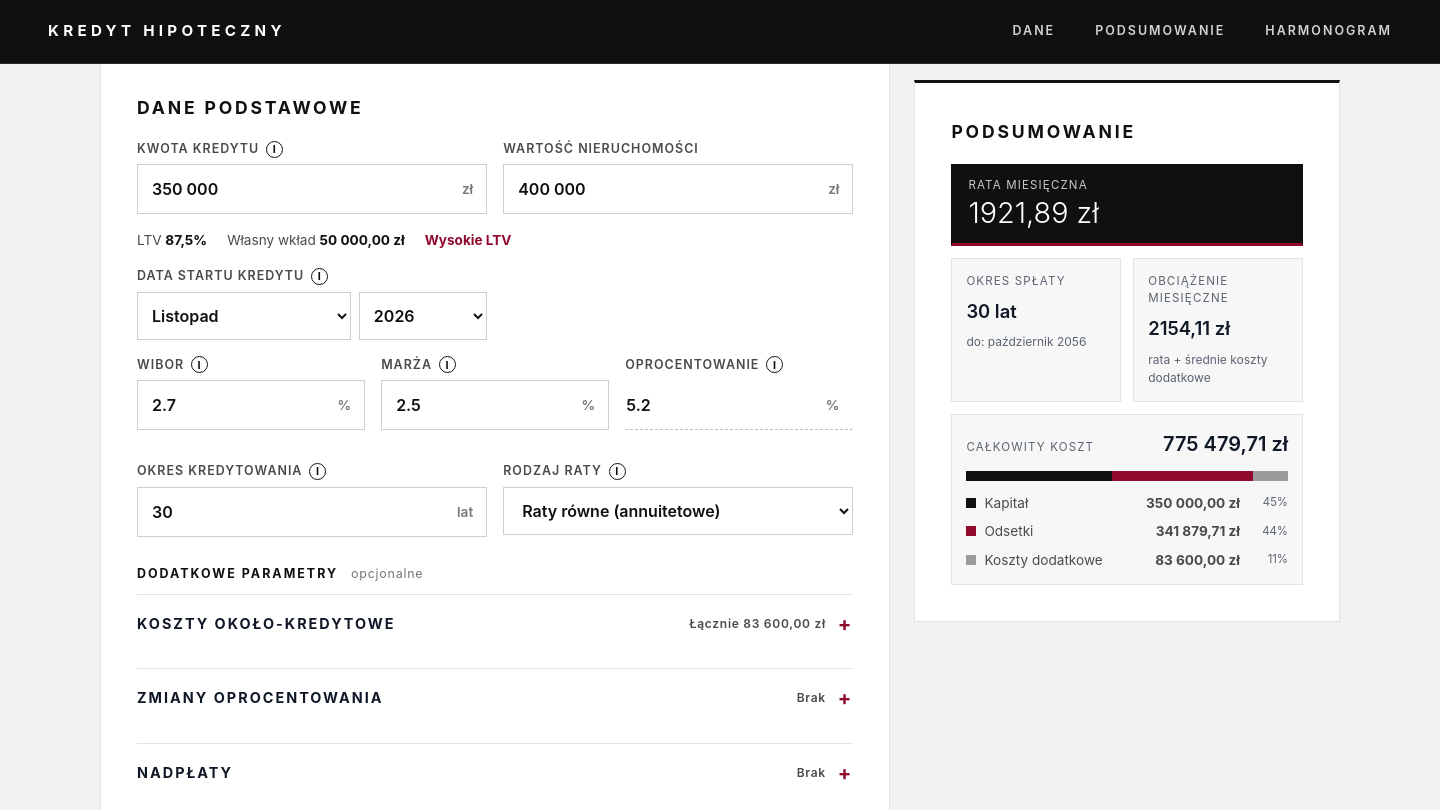
save button behavior › derives the total interest rate from WIBOR and margin
(page scrolled)
Replace the text in the number field labelled "WIBOR i" with "3.2" at (251,405), box [137, 380, 365, 430]
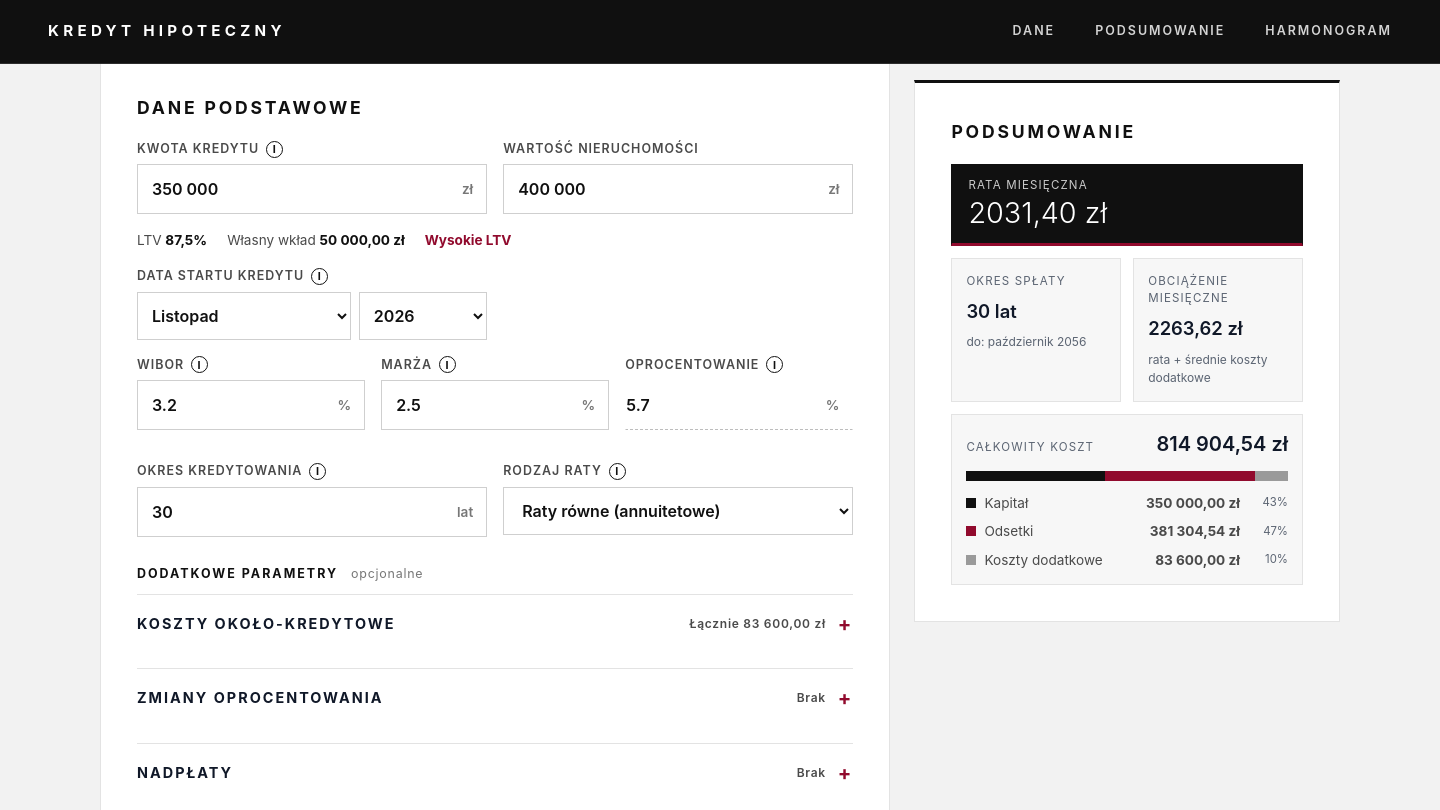
Replace the text in the number field labelled "Marża i" with "2.1" at (495,405), box [381, 380, 609, 430]
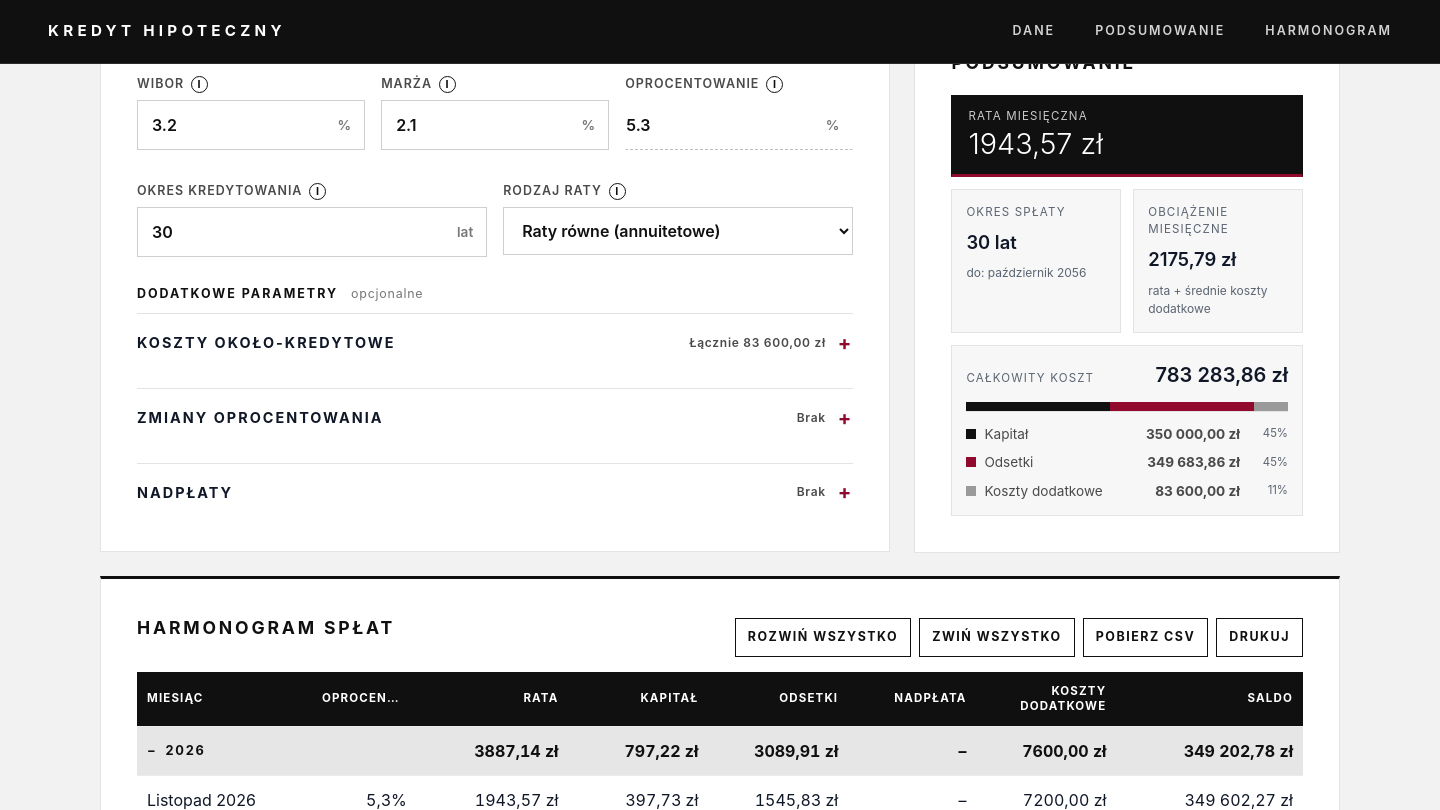
Check: the number field labelled "Oprocentowanie i" holds "5.3", box [625, 100, 853, 150]
